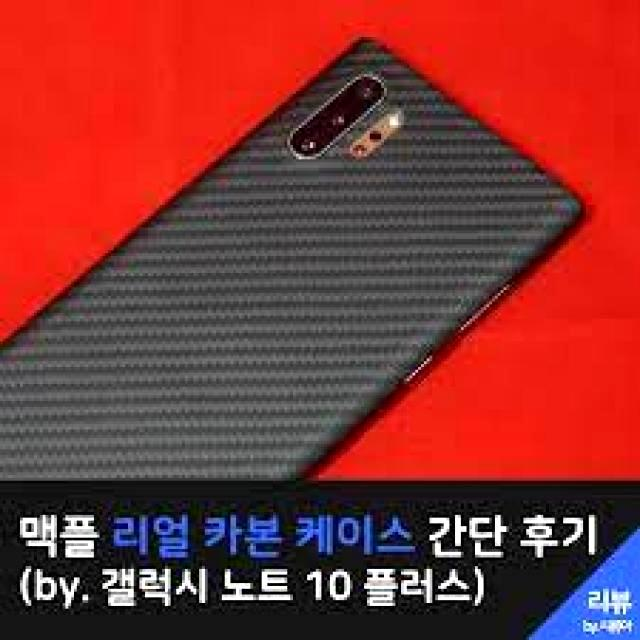lens_back: (352, 78, 380, 105), (325, 105, 350, 132), (297, 134, 322, 156)
